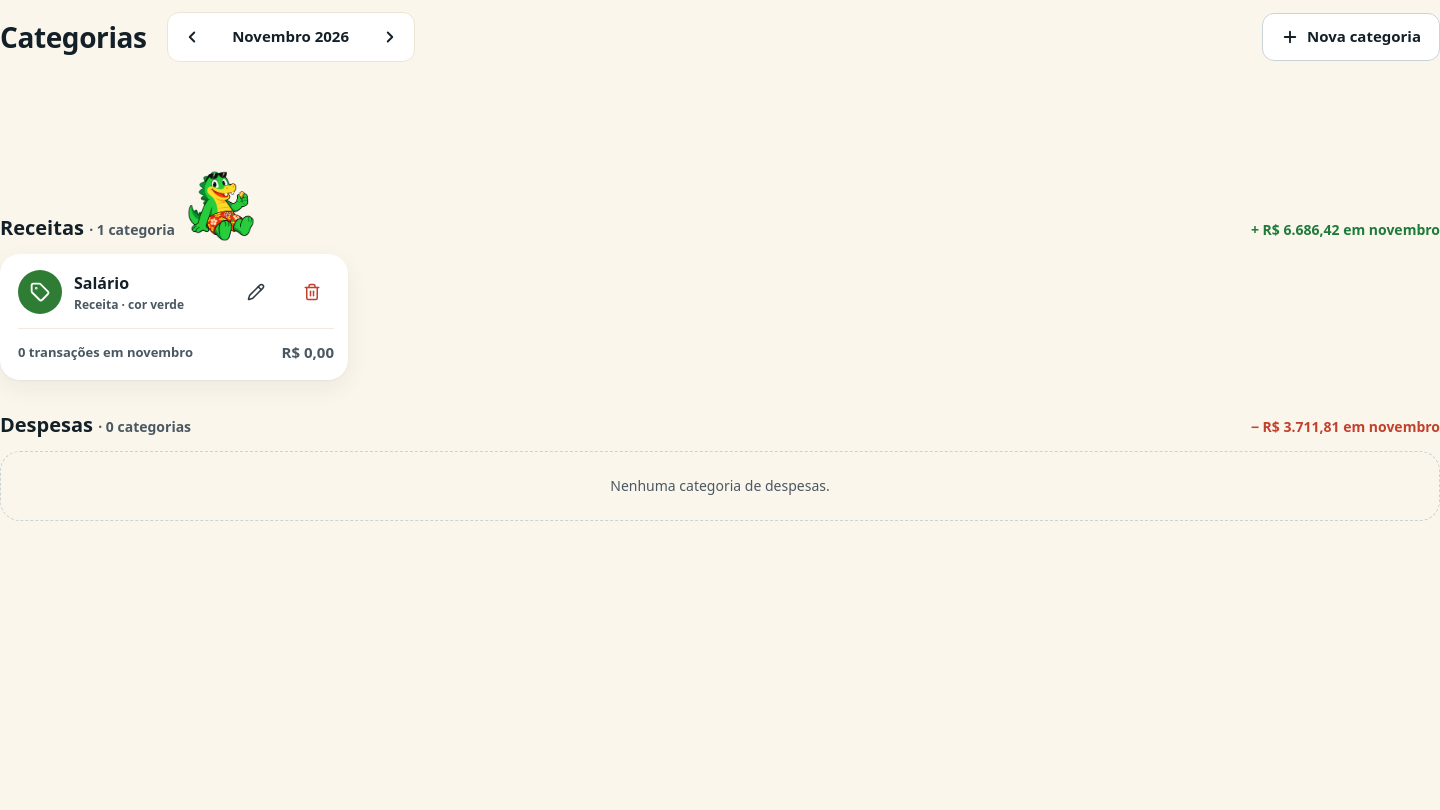
Scenario: CategoriasPage › se o backend recusar com 409, mostra o bloqueio com o número de transações
Click the button named "Excluir categoria Salário". click: (312, 292)
box: x1=290 y1=270 x2=334 y2=314
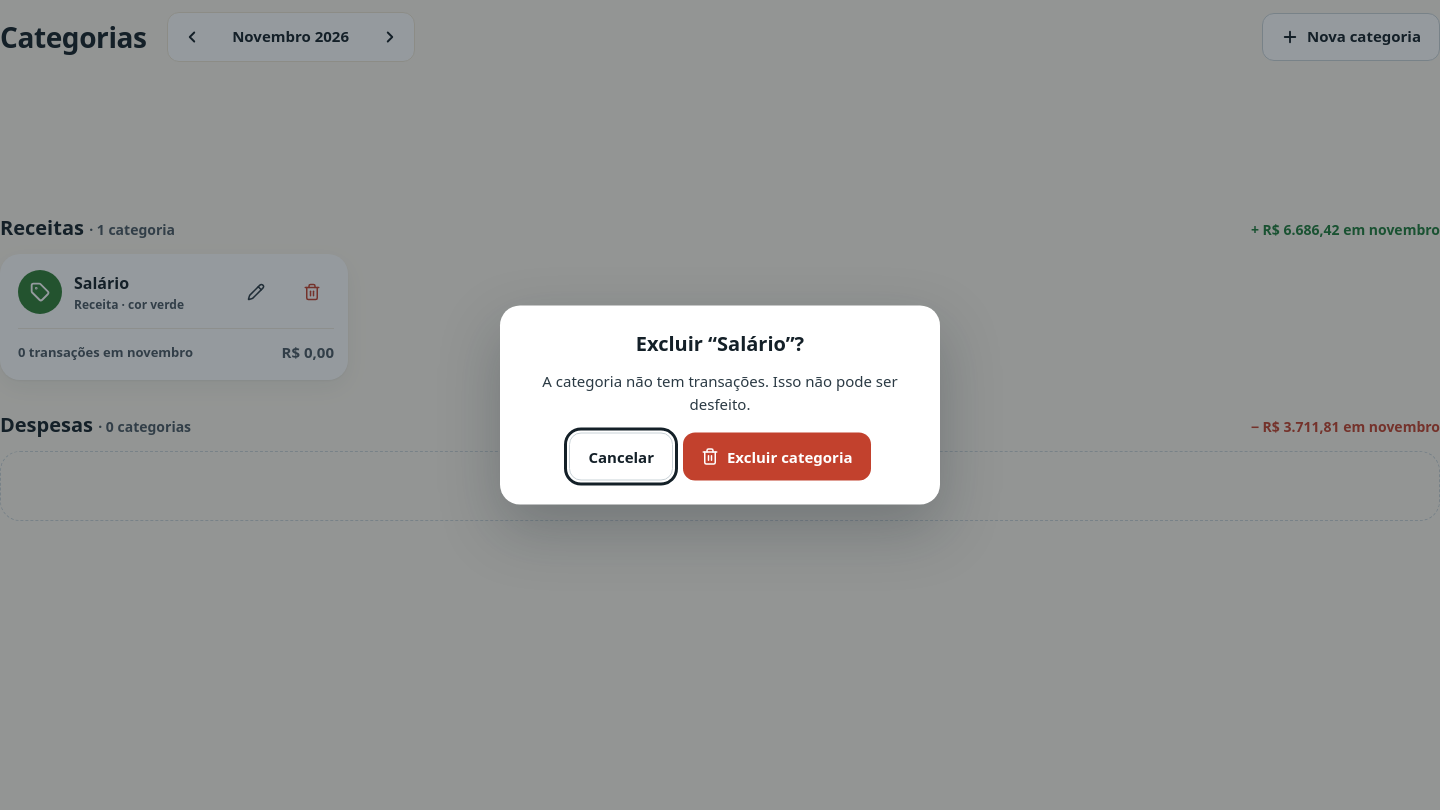
Click the button "Excluir categoria". click: (777, 456)
box: x1=683 y1=432 x2=871 y2=480
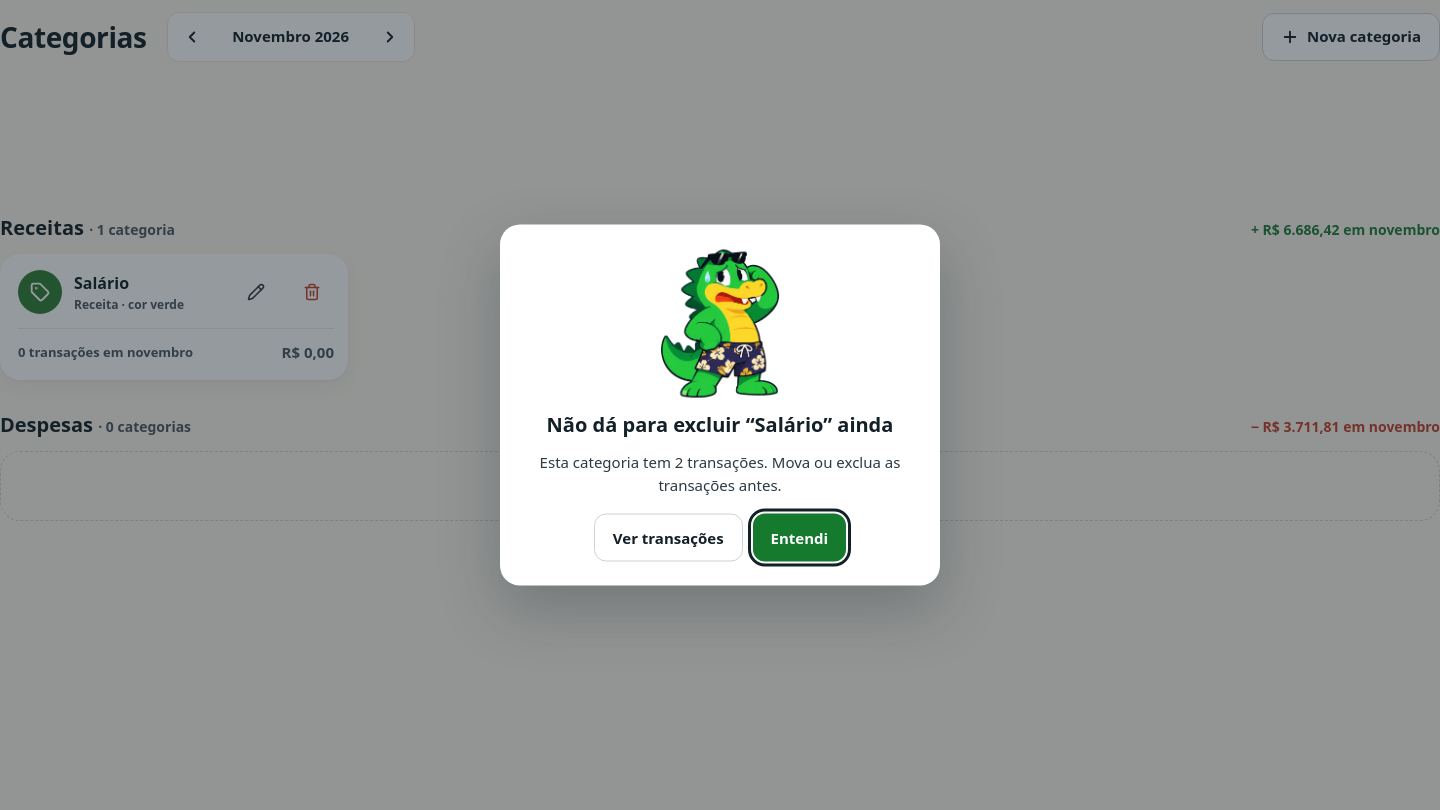
Expected: the dialog "Não dá para excluir “Salário” ainda" shows "Esta categoria tem 2 transações.", x1=500 y1=224 x2=940 y2=586
